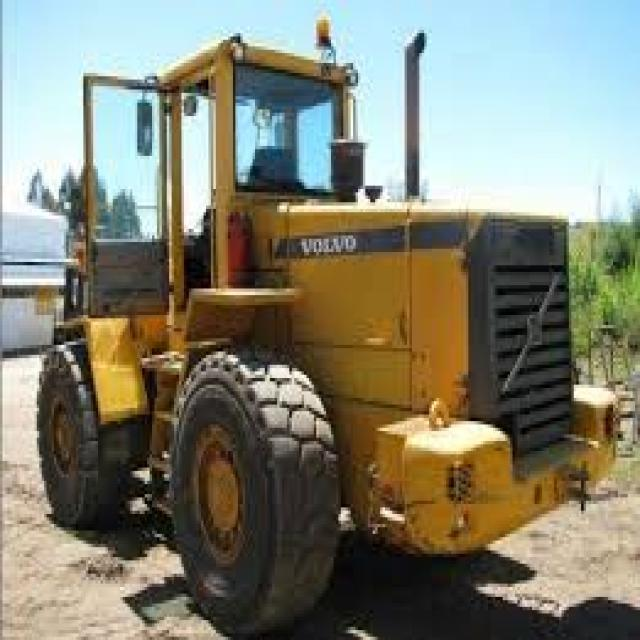buldozerpayloadergrader: (35, 28, 621, 639)
